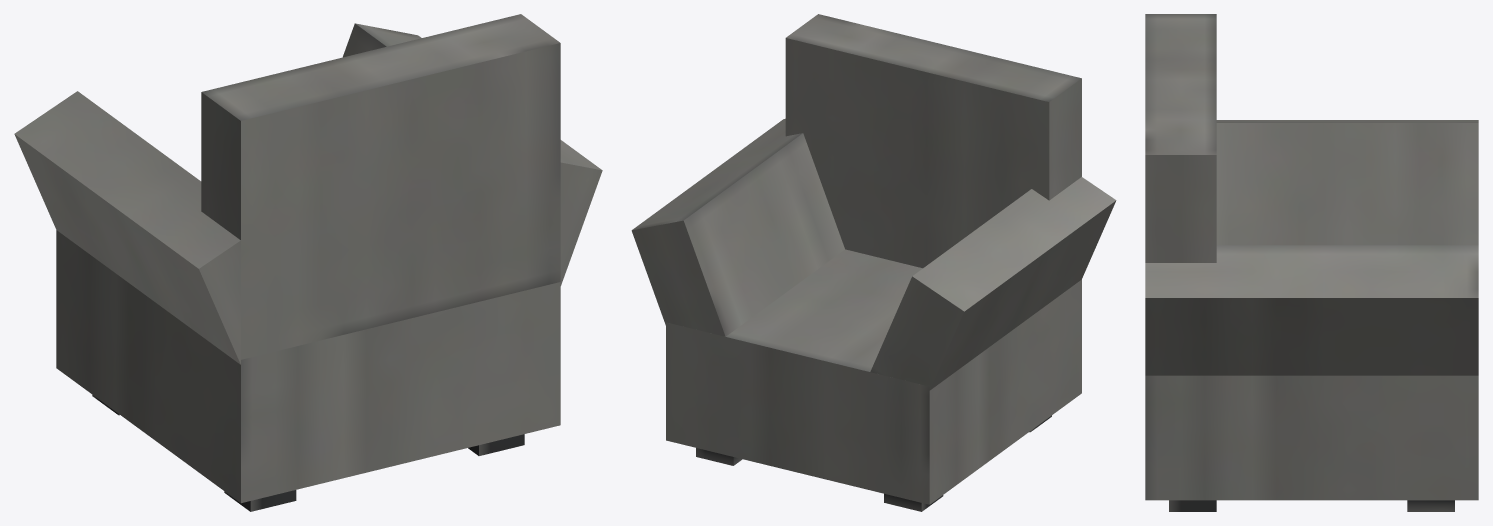
File: sofa_1x1.obj
The picture shows the model from 3 angles, left to right: view 1: azimuth 30°, elevation 25°; view 2: azimuth 150°, elevation 25°; view 3: azimuth 270°, elevation 25°; orthographic projection. The views are drawn at different scales.
Parts seen in each view (by area): view 1: sofa_1x1; view 2: sofa_1x1; view 3: sofa_1x1.
Part boxes in pixels (<box>): sofa_1x1: <box>14,14,602,511</box>; sofa_1x1: <box>631,14,1116,511</box>; sofa_1x1: <box>1145,14,1478,511</box>.
Bounding box in the file's own units: 1.11 × 1.06 × 0.875.
